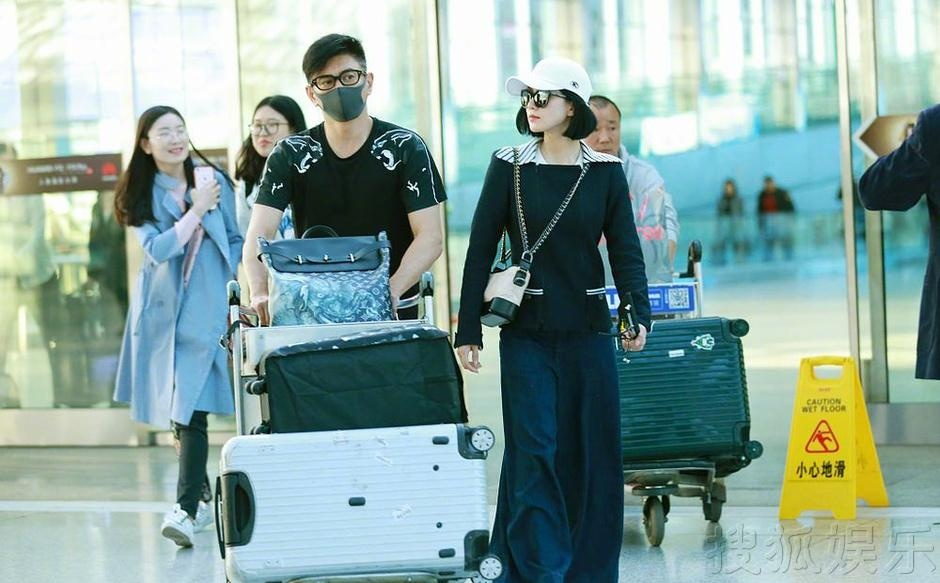Mask: (317, 65, 374, 121)
